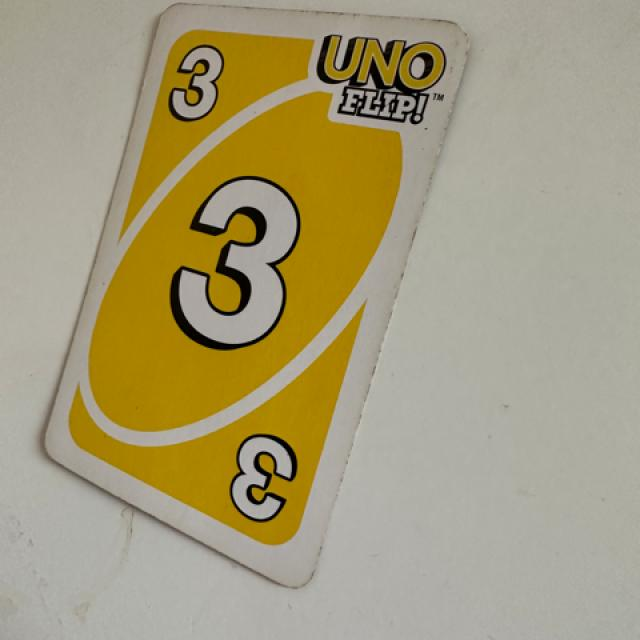lyellow-3: (159, 21, 239, 140)
